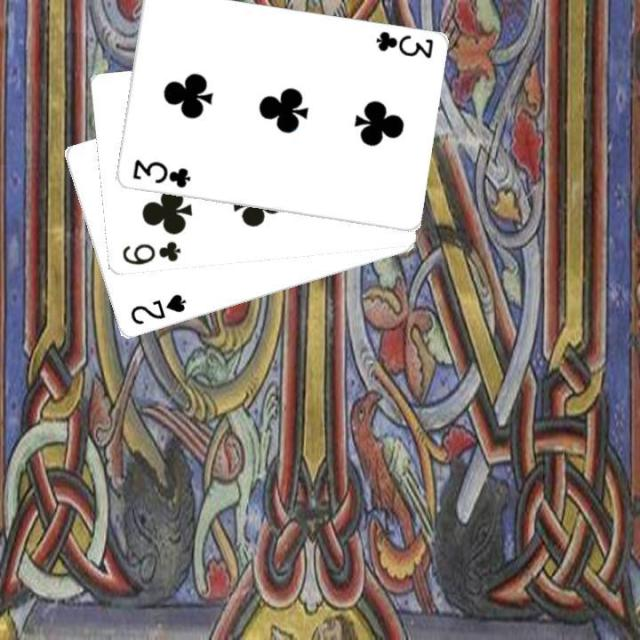2S: (126, 290, 188, 327)
3C: (128, 156, 192, 190), (370, 28, 434, 61)
6C: (118, 238, 182, 268)
